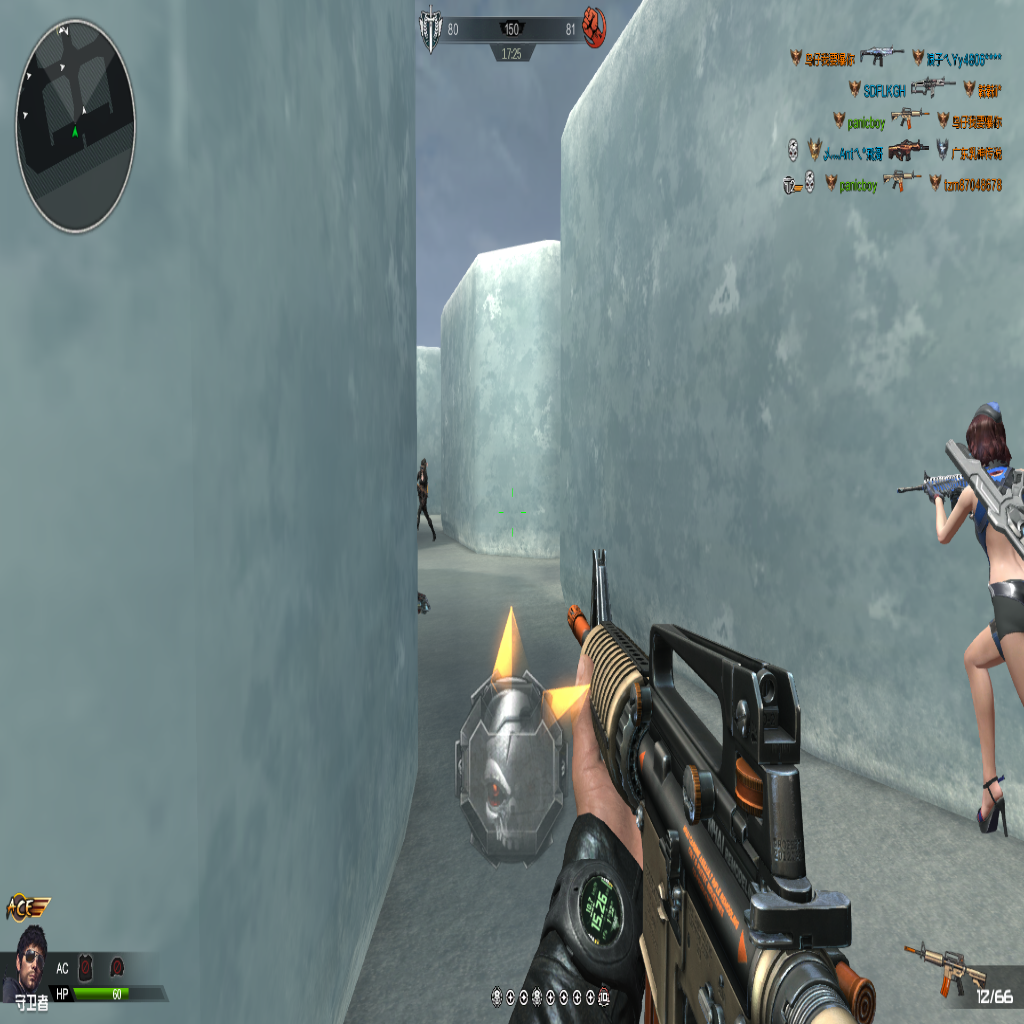ct: (929, 386, 1021, 841), (416, 460, 433, 540)
